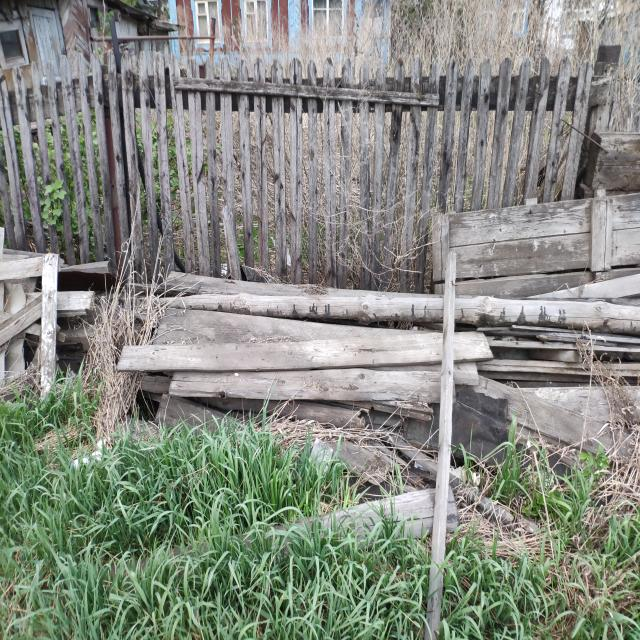entulho: (433, 190, 640, 300), (128, 296, 640, 335), (115, 329, 496, 375), (461, 379, 610, 494), (425, 254, 458, 639), (295, 484, 457, 558), (170, 364, 456, 404), (324, 421, 434, 486), (527, 385, 640, 427), (154, 391, 239, 444), (163, 269, 278, 305), (0, 294, 40, 383), (478, 359, 640, 380), (40, 254, 60, 402), (57, 286, 102, 321), (0, 254, 38, 285), (67, 260, 116, 280)
